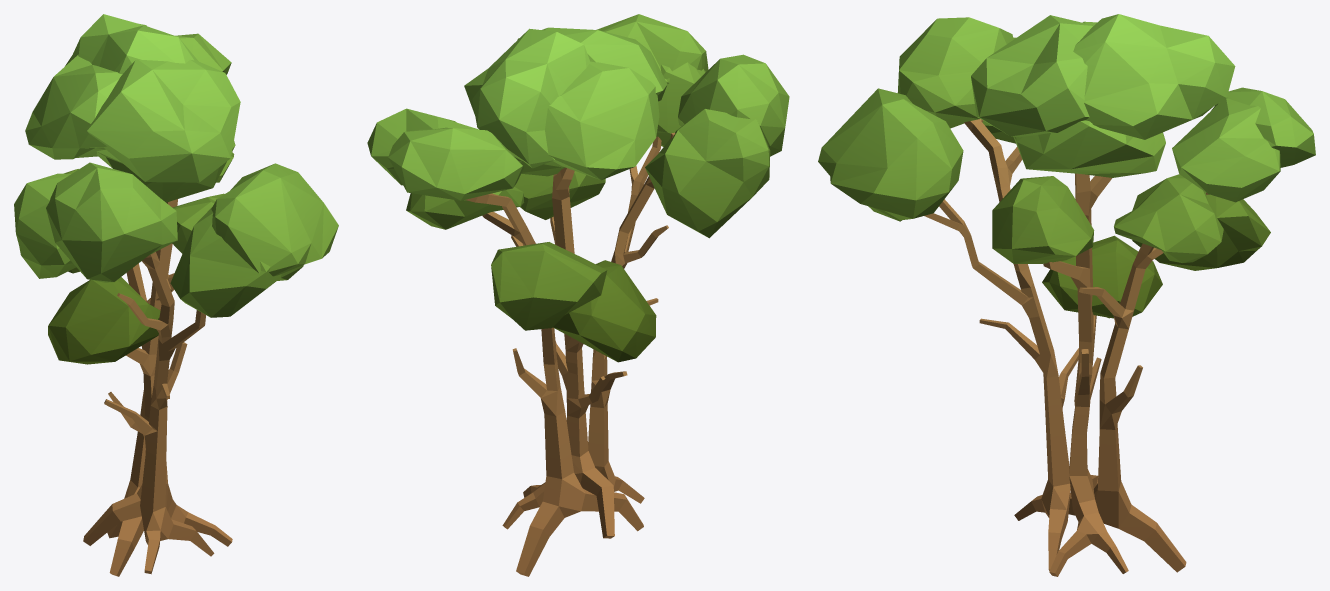
Rendered from LP_Tree_05.fbx.
3 views of the same model, side by side, from view 1: azimuth 30°, elevation 25°; view 2: azimuth 150°, elevation 25°; view 3: azimuth 270°, elevation 25° (orthographic). The views are drawn at different scales.
Visible parts, largest first — view 1: LP_Tree_05_LOD0; view 2: LP_Tree_05_LOD0; view 3: LP_Tree_05_LOD0.
Boxes of the visible parts, x1,y1,x2,y2 form: LP_Tree_05_LOD0: [14, 14, 338, 576]; LP_Tree_05_LOD0: [367, 14, 789, 576]; LP_Tree_05_LOD0: [818, 14, 1315, 576].
Size of what is drawn, in the model's own units: 3.57 by 5.94 by 4.83.
